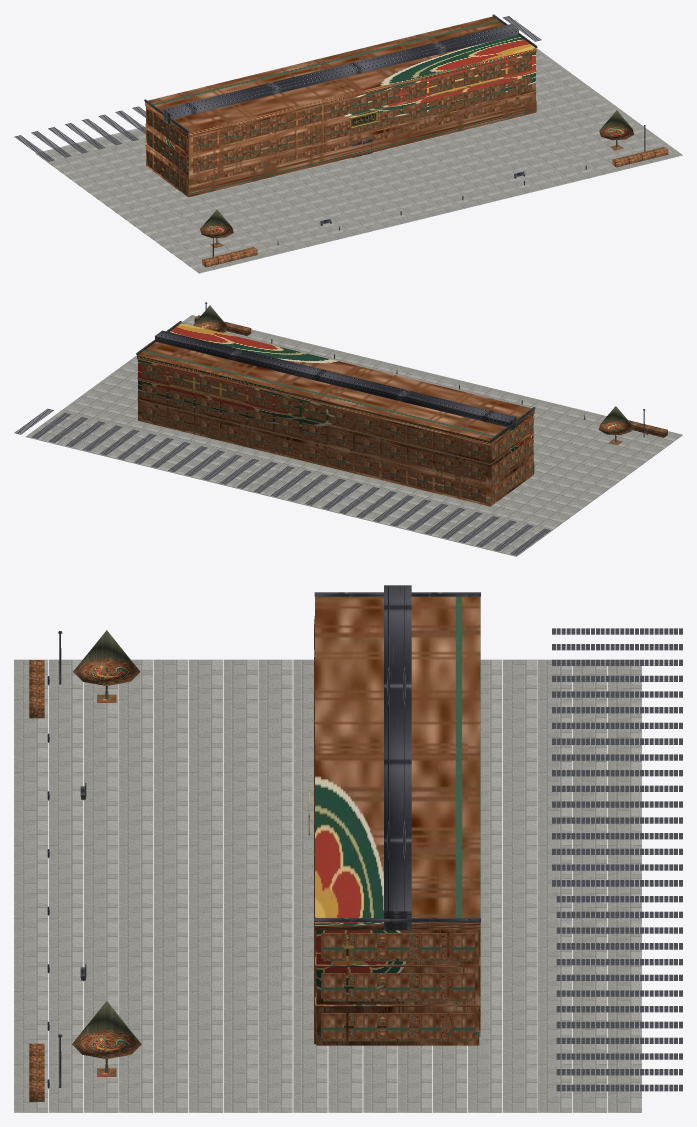
The picture shows the model from 3 angles, top to bottom: view 1: azimuth 30°, elevation 25°; view 2: azimuth 150°, elevation 25°; view 3: azimuth 270°, elevation 25°; orthographic projection. The views are drawn at different scales.
Visible parts, largest first — view 1: 11680_01_06032_039_01__plinth_ground_base, 11680_01_06032_039_02__mass_body_facade, 11680_01_06032_039_03__roof_metal_ornament, 11680_01_06032_039_05__window_sash_glass, 11680_01_06032_039_06__landscape_greenery, 11680_01_06032_039_03__roof_deck_structure; view 2: 11680_01_06032_039_02__mass_body_facade, 11680_01_06032_039_01__plinth_ground_base, 11680_01_06032_039_03__roof_deck_structure, 11680_01_06032_039_03__roof_metal_ornament, 11680_01_06032_039_06__landscape_greenery; view 3: 11680_01_06032_039_01__plinth_ground_base, 11680_01_06032_039_02__mass_body_facade, 11680_01_06032_039_03__roof_deck_structure, 11680_01_06032_039_03__roof_metal_ornament, 11680_01_06032_039_06__landscape_greenery.
Part boxes in pixels (x1=…): 11680_01_06032_039_01__plinth_ground_base: x1=35, y1=48, x2=682, y2=273; 11680_01_06032_039_02__mass_body_facade: x1=145, y1=16, x2=536, y2=197; 11680_01_06032_039_03__roof_metal_ornament: x1=144, y1=14, x2=537, y2=132; 11680_01_06032_039_05__window_sash_glass: x1=200, y1=57, x2=524, y2=184; 11680_01_06032_039_06__landscape_greenery: x1=200, y1=110, x2=668, y2=267; 11680_01_06032_039_03__roof_deck_structure: x1=14, y1=16, x2=541, y2=161; 11680_01_06032_039_02__mass_body_facade: x1=137, y1=323, x2=534, y2=506; 11680_01_06032_039_01__plinth_ground_base: x1=25, y1=315, x2=682, y2=556; 11680_01_06032_039_03__roof_deck_structure: x1=14, y1=408, x2=550, y2=555; 11680_01_06032_039_03__roof_metal_ornament: x1=136, y1=321, x2=535, y2=441; 11680_01_06032_039_06__landscape_greenery: x1=193, y1=305, x2=667, y2=445; 11680_01_06032_039_01__plinth_ground_base: x1=14, y1=659, x2=641, y2=1112; 11680_01_06032_039_02__mass_body_facade: x1=314, y1=596, x2=480, y2=1045; 11680_01_06032_039_03__roof_deck_structure: x1=552, y1=628, x2=682, y2=1091; 11680_01_06032_039_03__roof_metal_ornament: x1=314, y1=585, x2=480, y2=930; 11680_01_06032_039_06__landscape_greenery: x1=29, y1=630, x2=141, y2=1101.
Bounding box in the file's own units: 94.1 × 13.1 × 57.47.
7 materials, 7 textured.
